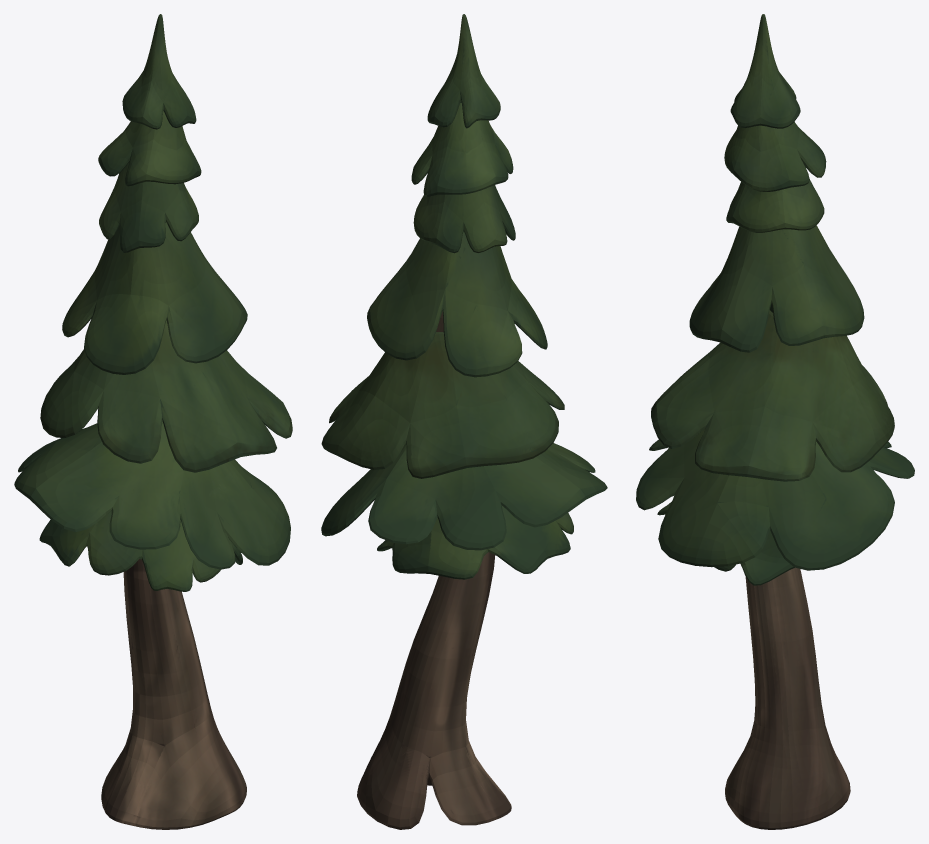
Rendered from treeLowPoly1.fbx.
3 views of the same model, side by side, from view 1: azimuth 30°, elevation 25°; view 2: azimuth 150°, elevation 25°; view 3: azimuth 270°, elevation 25° (orthographic). The views are drawn at different scales.
Visible parts, largest first — view 1: Tree1; view 2: Tree1; view 3: Tree1.
Boxes of the visible parts, left/top/right/bottom form: Tree1: left=14, top=14, right=292, bottom=829; Tree1: left=321, top=14, right=607, bottom=829; Tree1: left=636, top=14, right=914, bottom=829.
Bounding box in the file's own units: 180 × 559 × 182.
